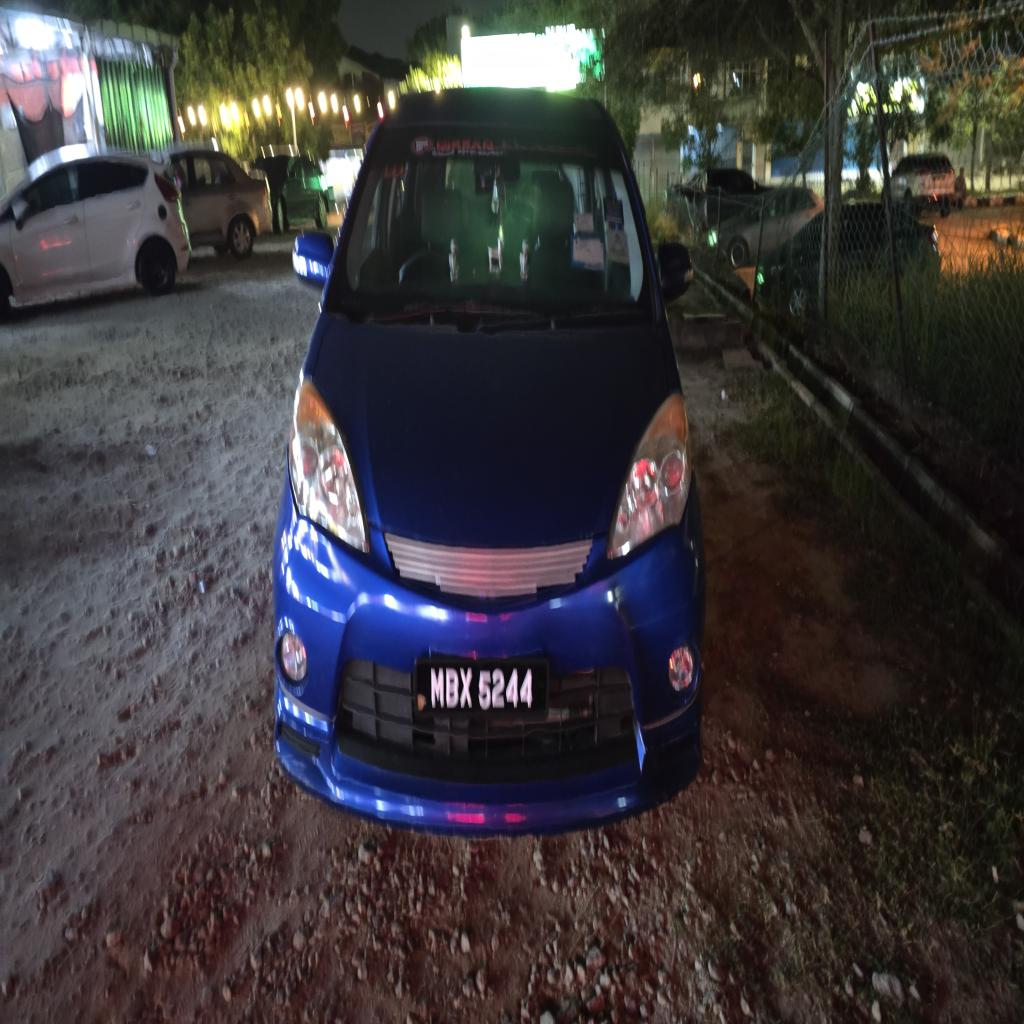car: (273, 89, 705, 833)
car plate: (414, 657, 548, 716)
